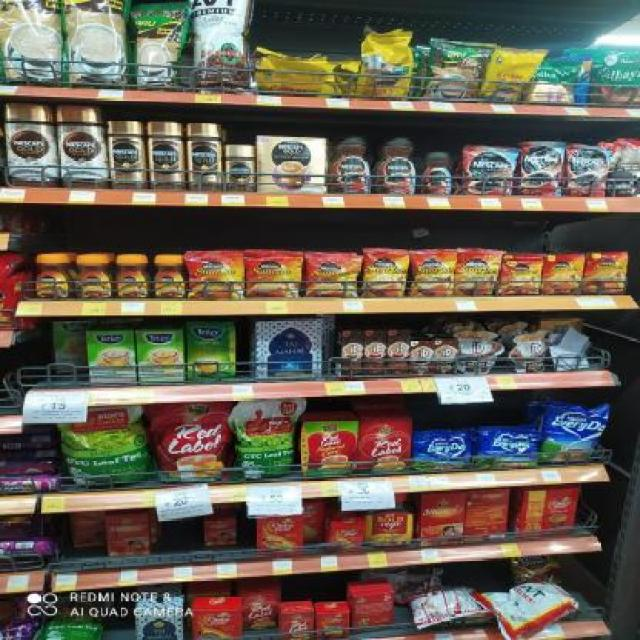Coffee: (5, 102, 55, 184), (60, 105, 108, 186), (146, 121, 185, 190), (373, 135, 418, 194), (188, 253, 243, 299), (184, 123, 221, 191), (110, 122, 147, 188), (330, 135, 372, 193), (246, 252, 300, 297), (463, 149, 514, 196), (308, 254, 358, 298), (520, 144, 562, 196), (362, 250, 407, 296), (566, 147, 606, 198), (412, 251, 456, 295), (455, 250, 497, 295), (74, 256, 111, 298), (34, 255, 69, 298), (114, 256, 149, 298), (418, 153, 453, 194), (151, 255, 184, 297), (227, 144, 256, 190), (608, 172, 634, 196)
